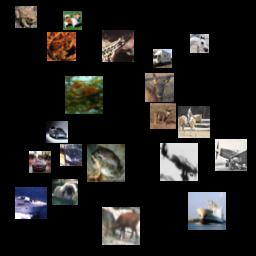airplane: (160, 143, 198, 181), (215, 139, 247, 171)
automobile: (29, 151, 51, 173), (46, 121, 68, 143), (60, 144, 82, 166)
cat: (65, 76, 103, 114)
deer: (102, 207, 140, 245), (145, 73, 174, 102), (150, 103, 176, 129)
dog: (52, 179, 78, 205), (63, 11, 82, 30)
frog: (87, 144, 125, 182), (102, 30, 134, 62), (47, 32, 76, 61), (15, 6, 37, 28)
ship: (188, 192, 226, 230), (15, 187, 47, 219)
truck: (153, 49, 172, 68)
